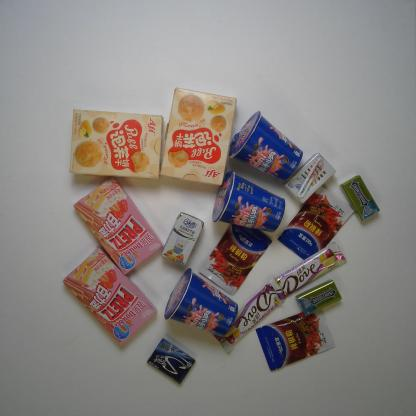Chocolate: (213, 282, 286, 354), (272, 240, 350, 300)
Dessert: (61, 246, 160, 350), (70, 176, 164, 276), (157, 86, 241, 188), (65, 108, 164, 182), (225, 108, 304, 181), (162, 266, 239, 339), (207, 168, 287, 233)
Gum: (147, 337, 196, 386), (340, 175, 380, 223), (297, 278, 344, 318)
Milk: (282, 150, 340, 205), (160, 210, 208, 270)
Seasoner: (254, 302, 344, 372), (277, 184, 356, 262), (198, 220, 279, 296)
